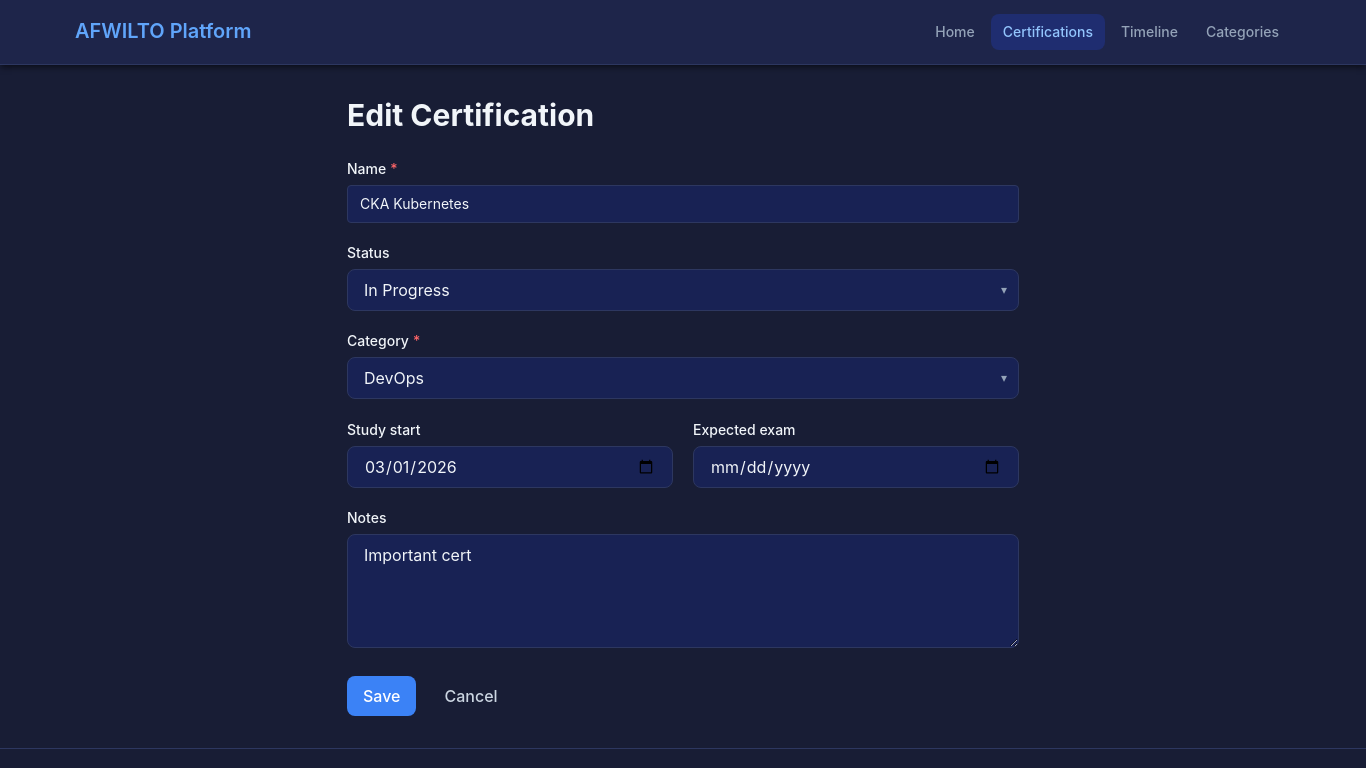
Test: CertificationEditPage › AC-5: edit service error shows error toast
Check: the field labelled "Name*" is shown, box x1=347 y1=184 x2=1019 y2=222
Click the button "Save": point(382, 696) x1=347 y1=676 x2=416 y2=716
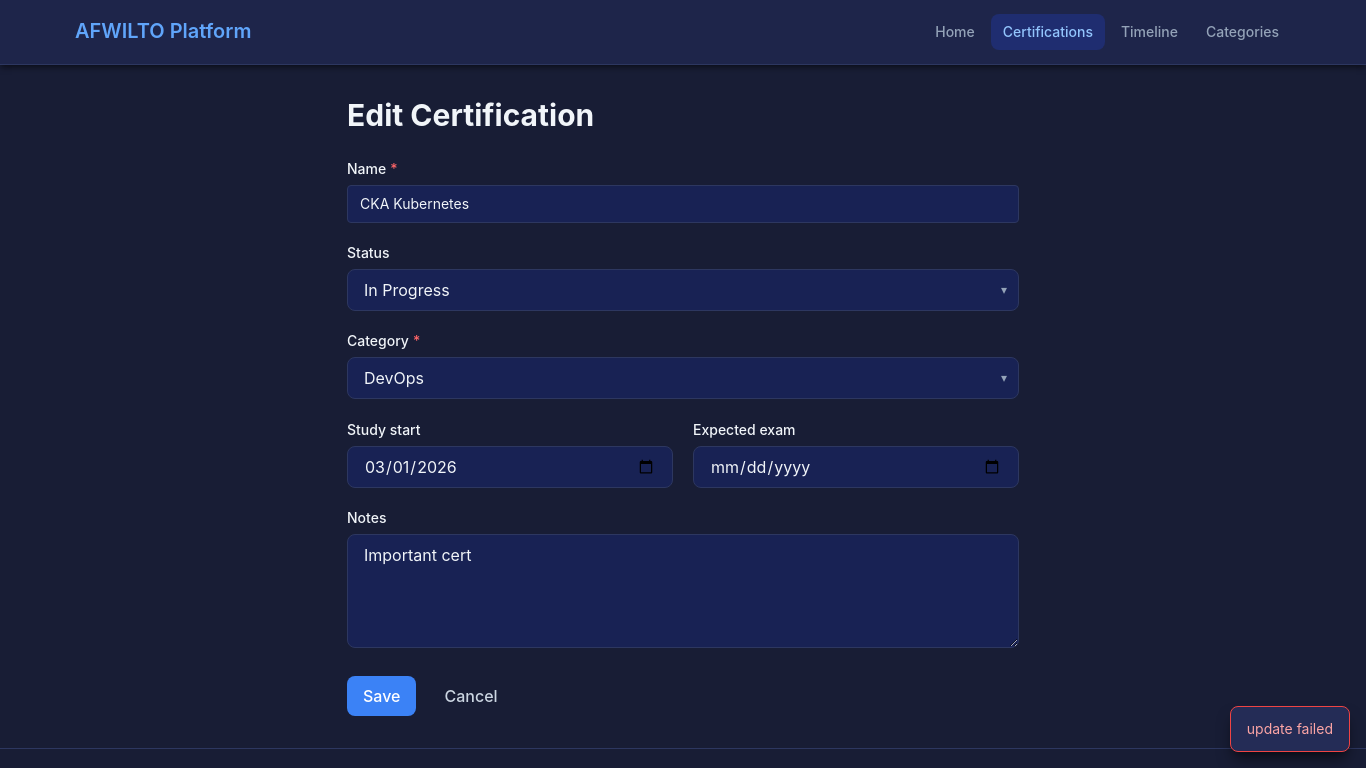
Check: the text "update failed" is shown, box x1=1230 y1=706 x2=1350 y2=752
